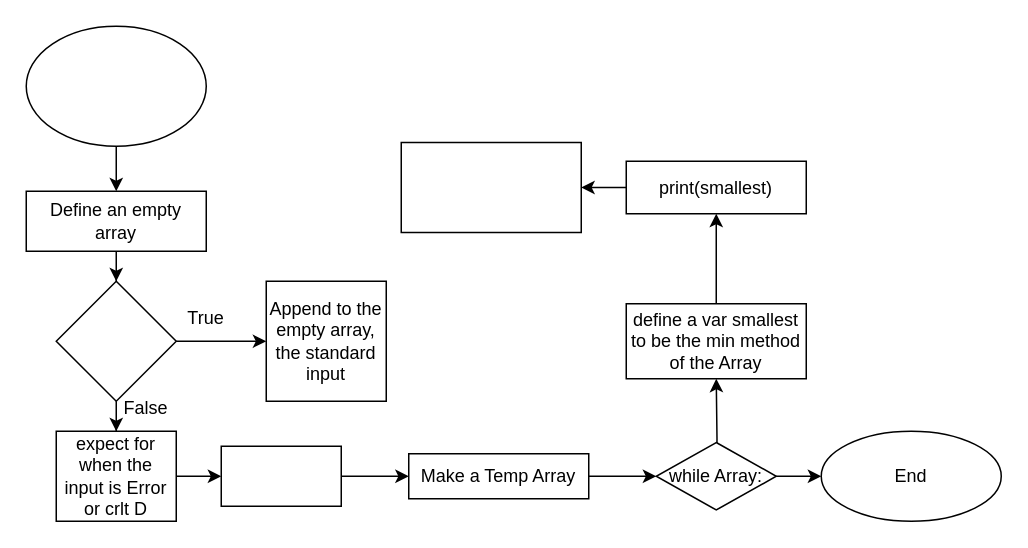
This 1028x548 diagram has some shape labels left out. Here are the shapes that lost their labels. From the top down, the centre of each, then its label:
At (115,85): "start".
At (490,186): "remove by using pop smallest from Array".
At (115,340): "while True".
At (280,475): "Break the while loop".
